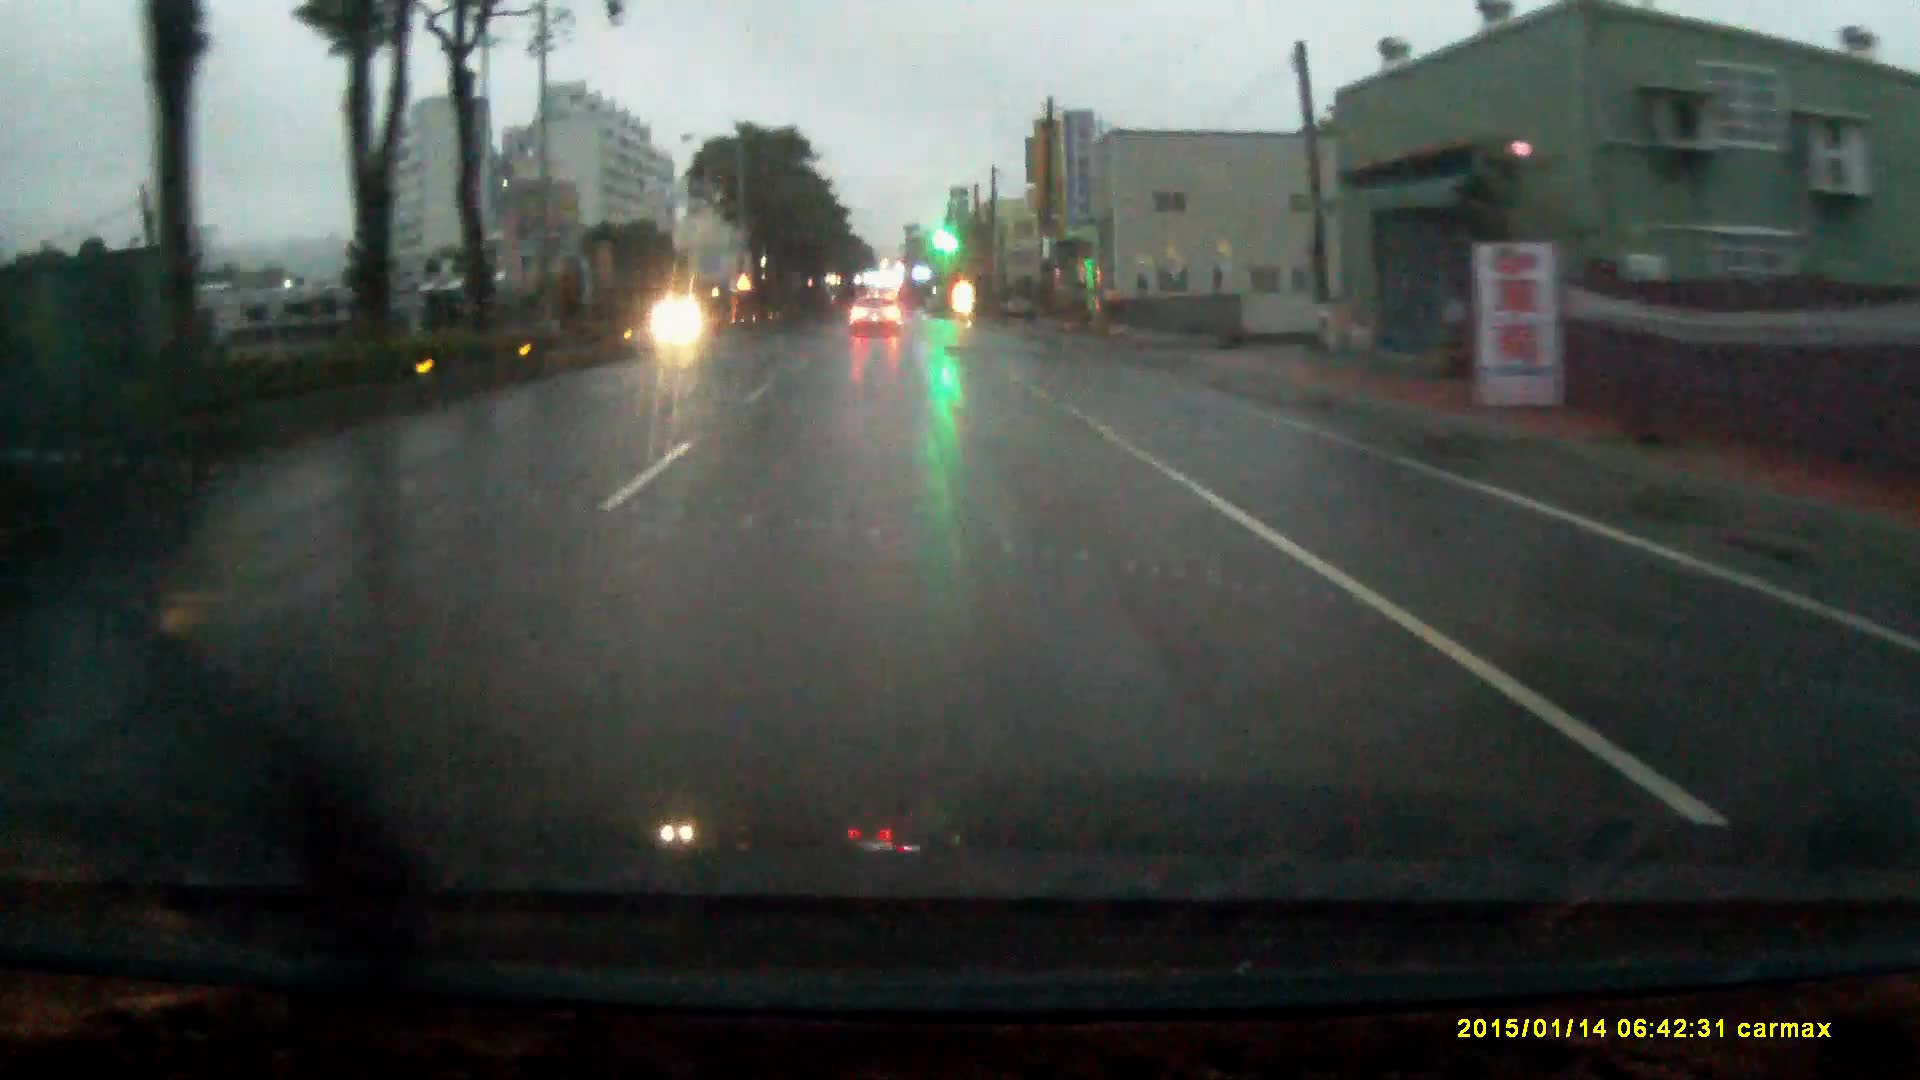vehicle: (849, 302, 902, 345), (1005, 282, 1040, 323)
